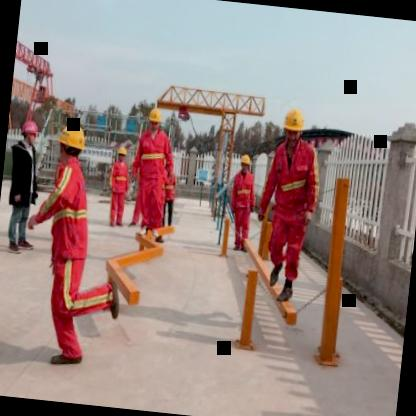helmet: (54, 120, 88, 164), (278, 102, 308, 149), (20, 116, 40, 147), (145, 106, 162, 136), (238, 150, 252, 176), (118, 143, 128, 163)
